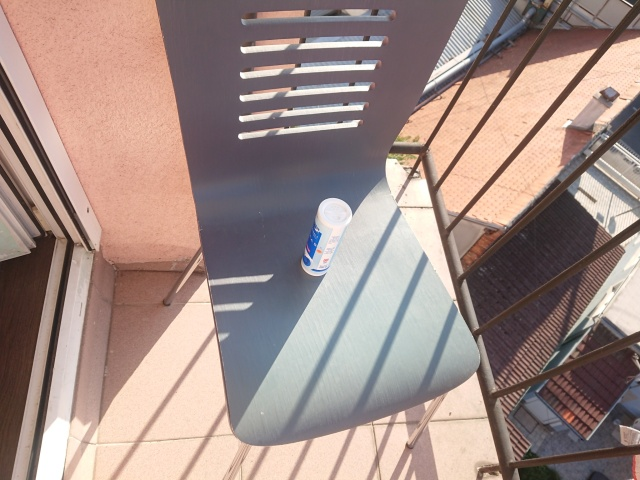Solana Pag Fine Sea Salt 250g: (297, 196, 355, 279)
